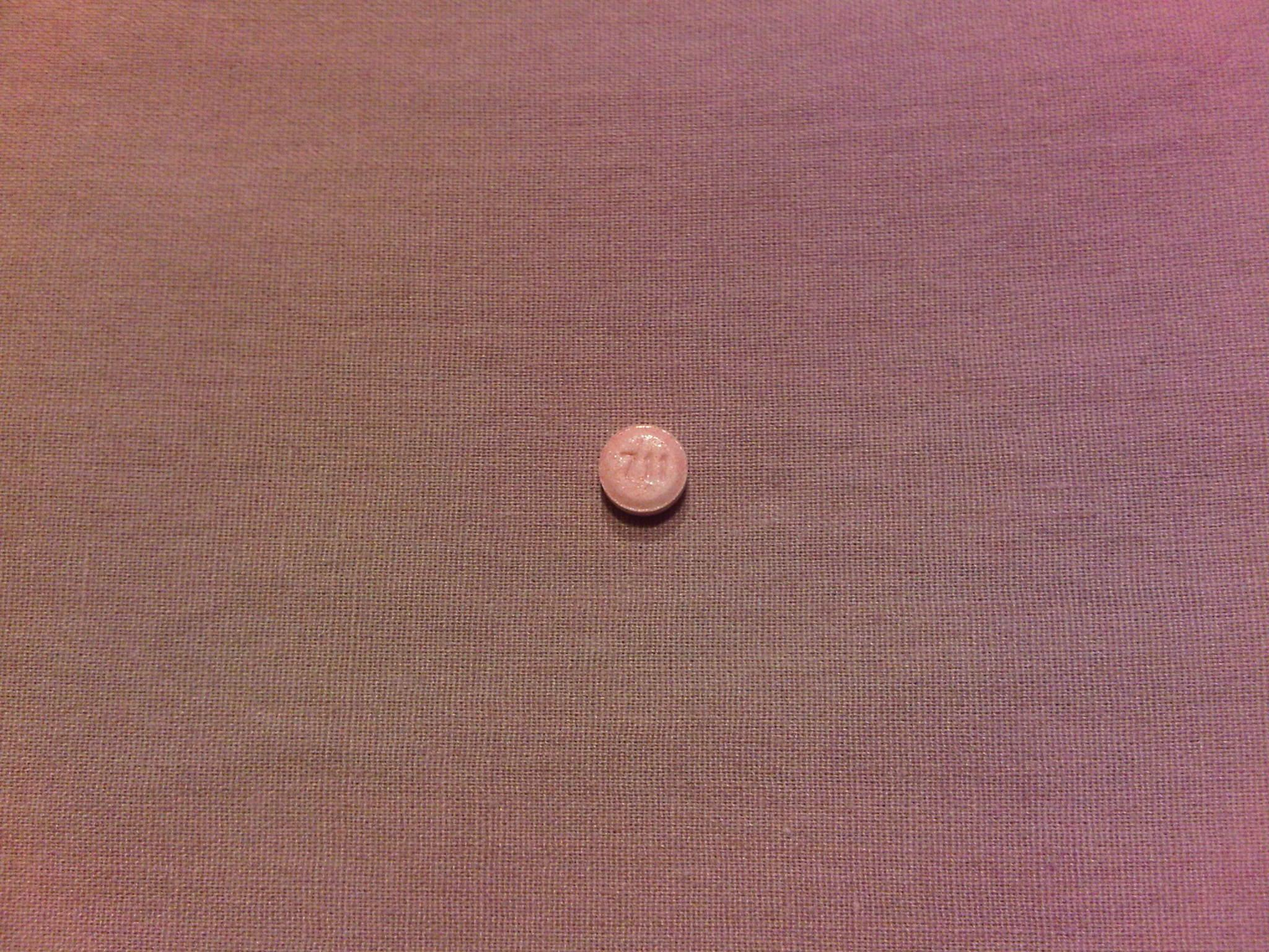Pill: (589, 415, 699, 523)
